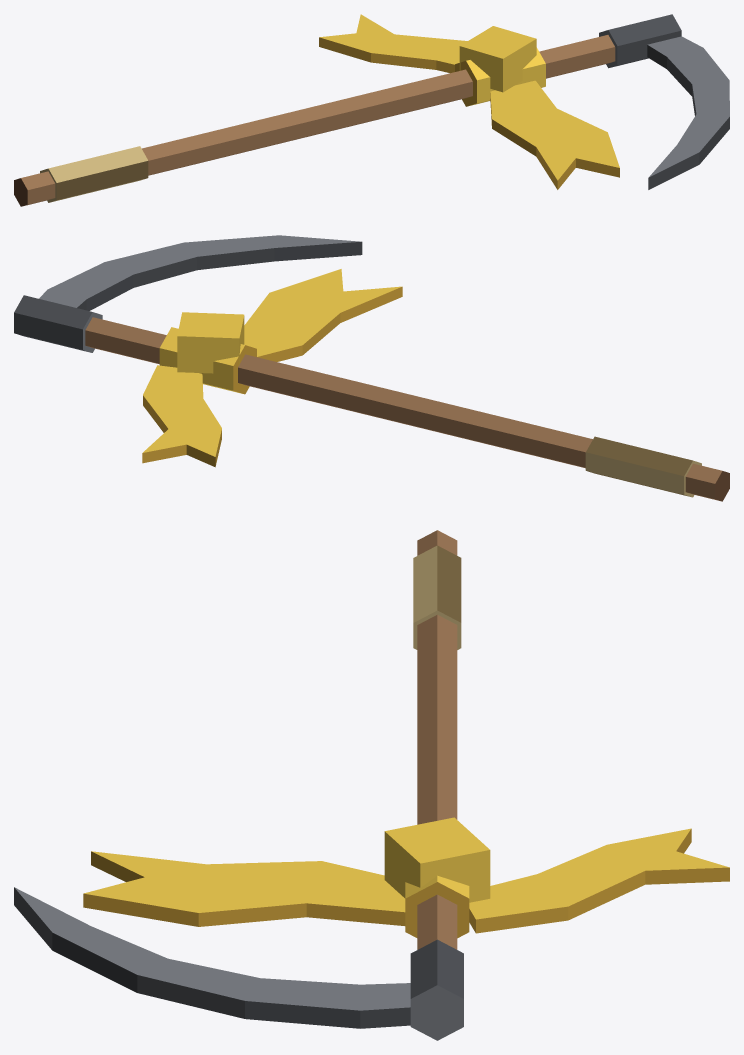
Rendered from scythe.fbx.
The picture shows the model from 3 angles, top to bottom: view 1: azimuth 30°, elevation 25°; view 2: azimuth 150°, elevation 25°; view 3: azimuth 270°, elevation 25°; orthographic projection. The views are drawn at different scales.
Visible parts, largest first — view 1: scythe; view 2: scythe; view 3: scythe.
Part boxes in pixels (left/top/right/bottom): scythe: left=14, top=14, right=729, bottom=206; scythe: left=14, top=235, right=729, bottom=501; scythe: left=14, top=530, right=729, bottom=1040.
Bounding box in the file's own units: 1.43 × 0.118 × 0.93.
